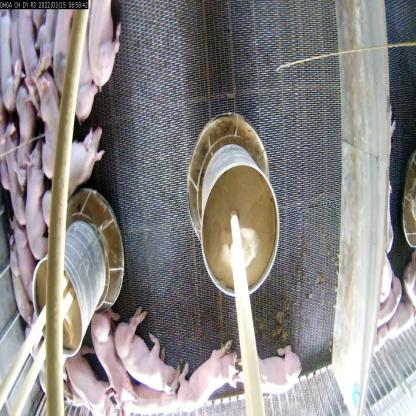Pig: (114, 316, 181, 386), (177, 339, 238, 407), (83, 0, 126, 94), (237, 342, 303, 398), (22, 142, 54, 257), (93, 323, 130, 416), (52, 122, 102, 188), (67, 18, 97, 127), (31, 70, 63, 171), (3, 94, 26, 216), (123, 381, 195, 415), (12, 212, 37, 290), (12, 59, 30, 149)
